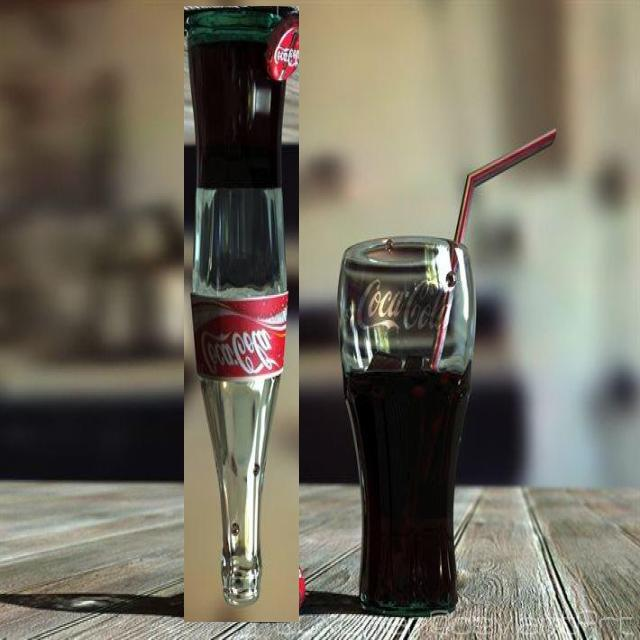coca-cola: (184, 6, 299, 622)
